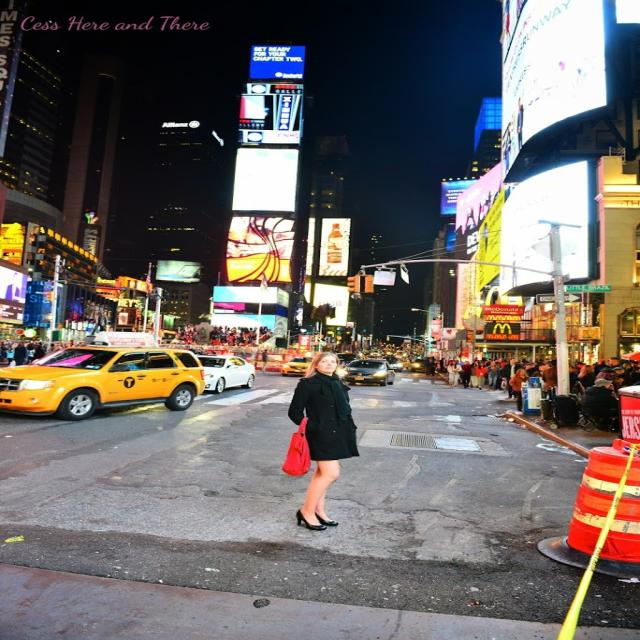body: (278, 349, 363, 532), (444, 349, 640, 402), (311, 330, 445, 380), (173, 322, 275, 360), (576, 377, 624, 434), (0, 339, 92, 368), (593, 366, 626, 410), (96, 353, 140, 379), (507, 367, 531, 412), (500, 357, 525, 400), (528, 363, 551, 402), (538, 358, 555, 401), (577, 364, 597, 396), (486, 361, 502, 392), (447, 360, 463, 390), (474, 360, 490, 390), (456, 360, 472, 389), (92, 308, 110, 331), (12, 340, 27, 366), (258, 348, 270, 373), (4, 346, 17, 366), (468, 362, 478, 388), (24, 344, 36, 364)
